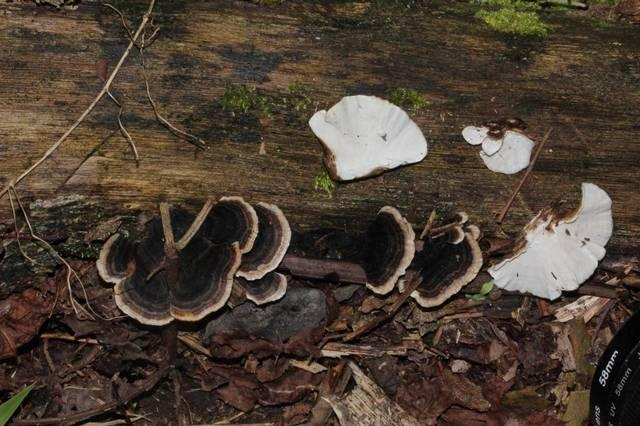poisonous_mushroom: (95, 194, 291, 327), (487, 180, 614, 301), (307, 92, 428, 182), (408, 211, 483, 309), (461, 115, 536, 175)
